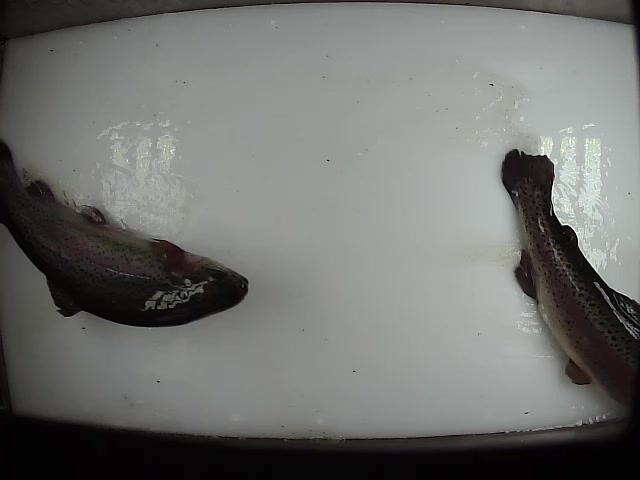fish: (1, 139, 251, 330), (499, 147, 640, 420)
